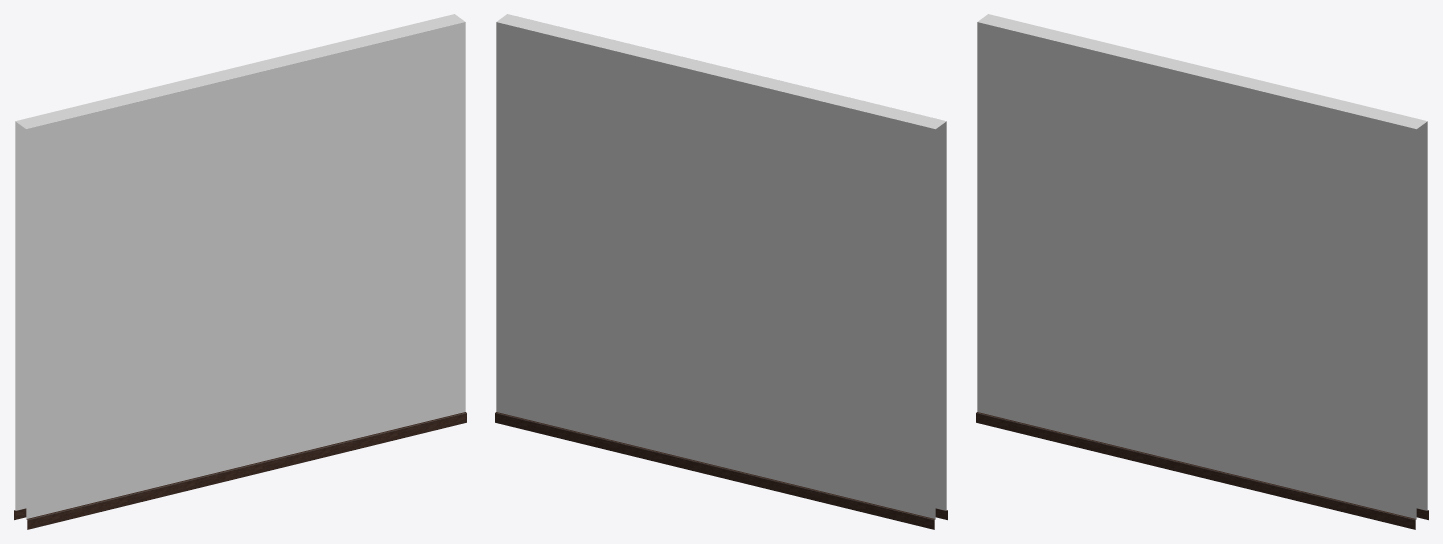
The model's file is Wall_1.FBX.
The picture shows the model from 3 angles, left to right: view 1: azimuth 30°, elevation 25°; view 2: azimuth 150°, elevation 25°; view 3: azimuth 330°, elevation 25°; orthographic projection.
Visible parts, largest first — view 1: wall_1; view 2: wall_1; view 3: wall_1.
Boxes of the visible parts, box(x1,y1,x2,y2) form: wall_1: box(14, 14, 466, 529); wall_1: box(495, 14, 947, 529); wall_1: box(976, 14, 1428, 529).
Size of the model in its own units: 4.6 by 4 by 0.24.
Materials: 1 (1 with a texture image).
